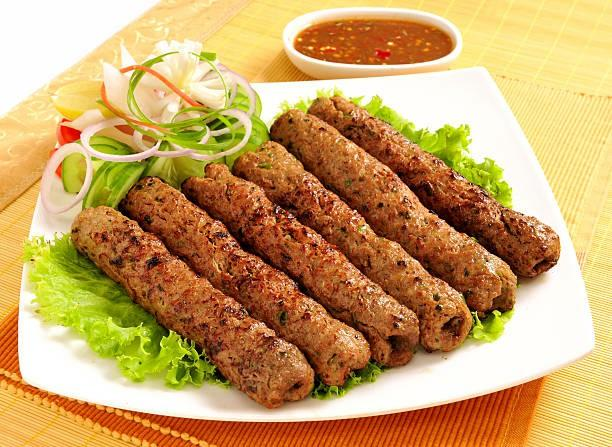Kebab: (162, 161, 421, 369), (126, 176, 371, 387), (271, 108, 518, 316), (230, 141, 470, 352), (70, 206, 314, 408), (310, 93, 561, 278)
